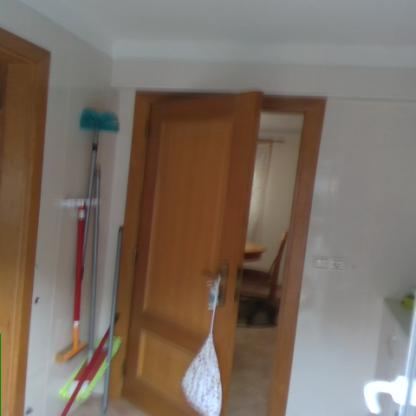semi: (112, 74, 337, 416)
